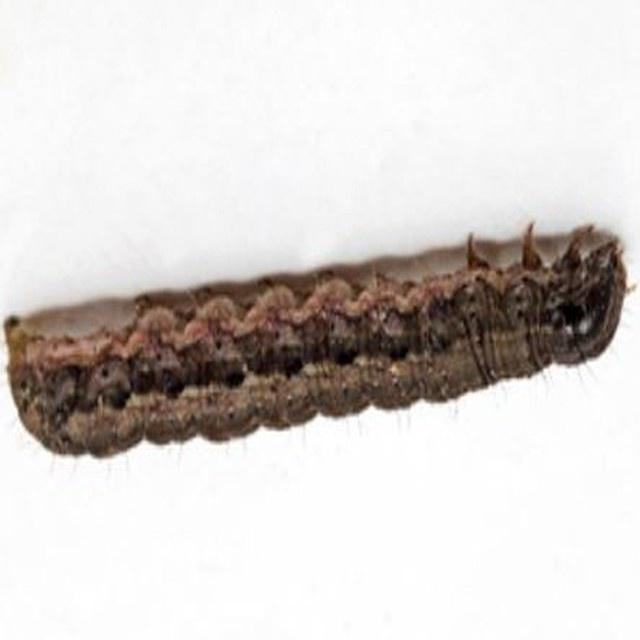gusano_cogollero: (15, 216, 627, 464)
